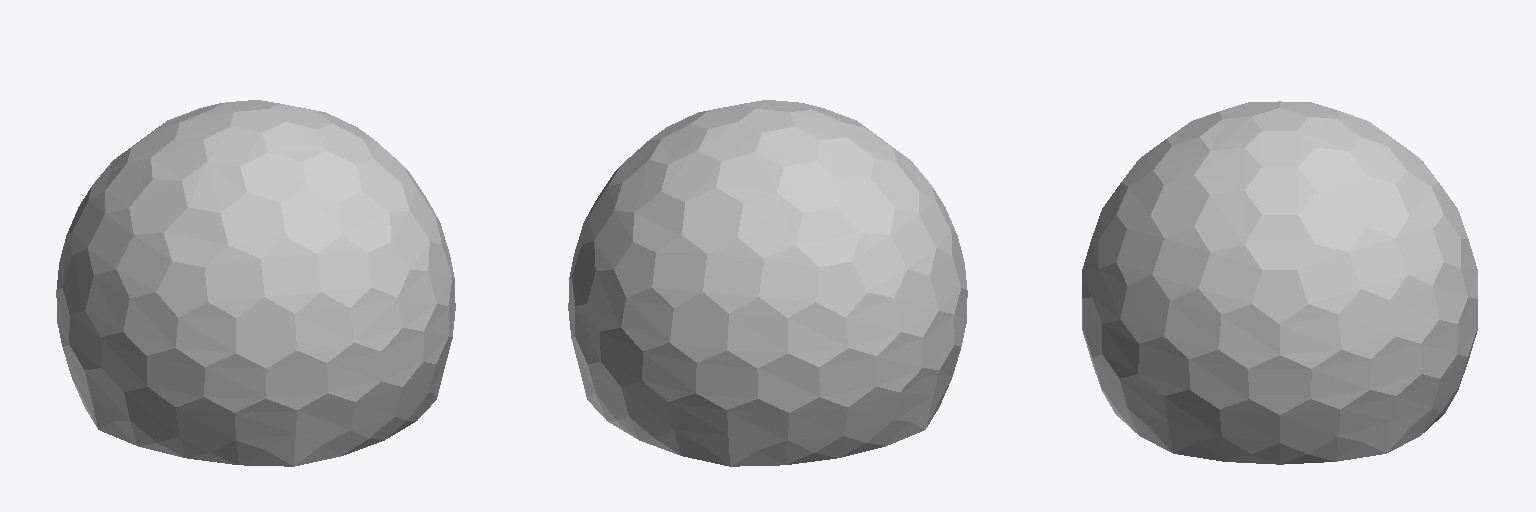
The model's file is Light_Positions.obj.
The picture shows the model from 3 angles: view 1: azimuth 30°, elevation 25°; view 2: azimuth 150°, elevation 25°; view 3: azimuth 270°, elevation 25°; orthographic projection.
Size of the model in its own units: 136 by 103 by 136.